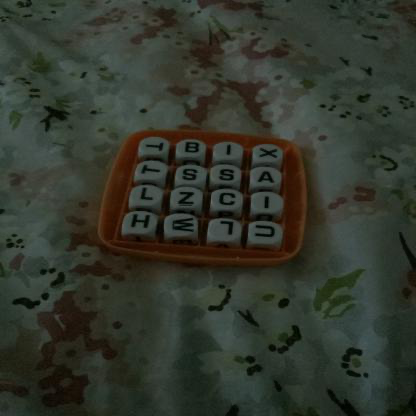a: (254, 168, 282, 188)
b: (182, 140, 204, 157)
c: (216, 189, 242, 209)
h: (128, 212, 156, 233)
i: (255, 194, 280, 213), (219, 142, 240, 160)
l: (214, 218, 241, 241), (134, 185, 161, 205)
s: (215, 166, 241, 185), (180, 167, 203, 184)
t: (138, 161, 167, 180)
t\: (141, 137, 170, 156)
u: (251, 221, 282, 243)
w: (169, 215, 200, 237)
x: (257, 145, 283, 162)
z: (175, 188, 201, 210)
